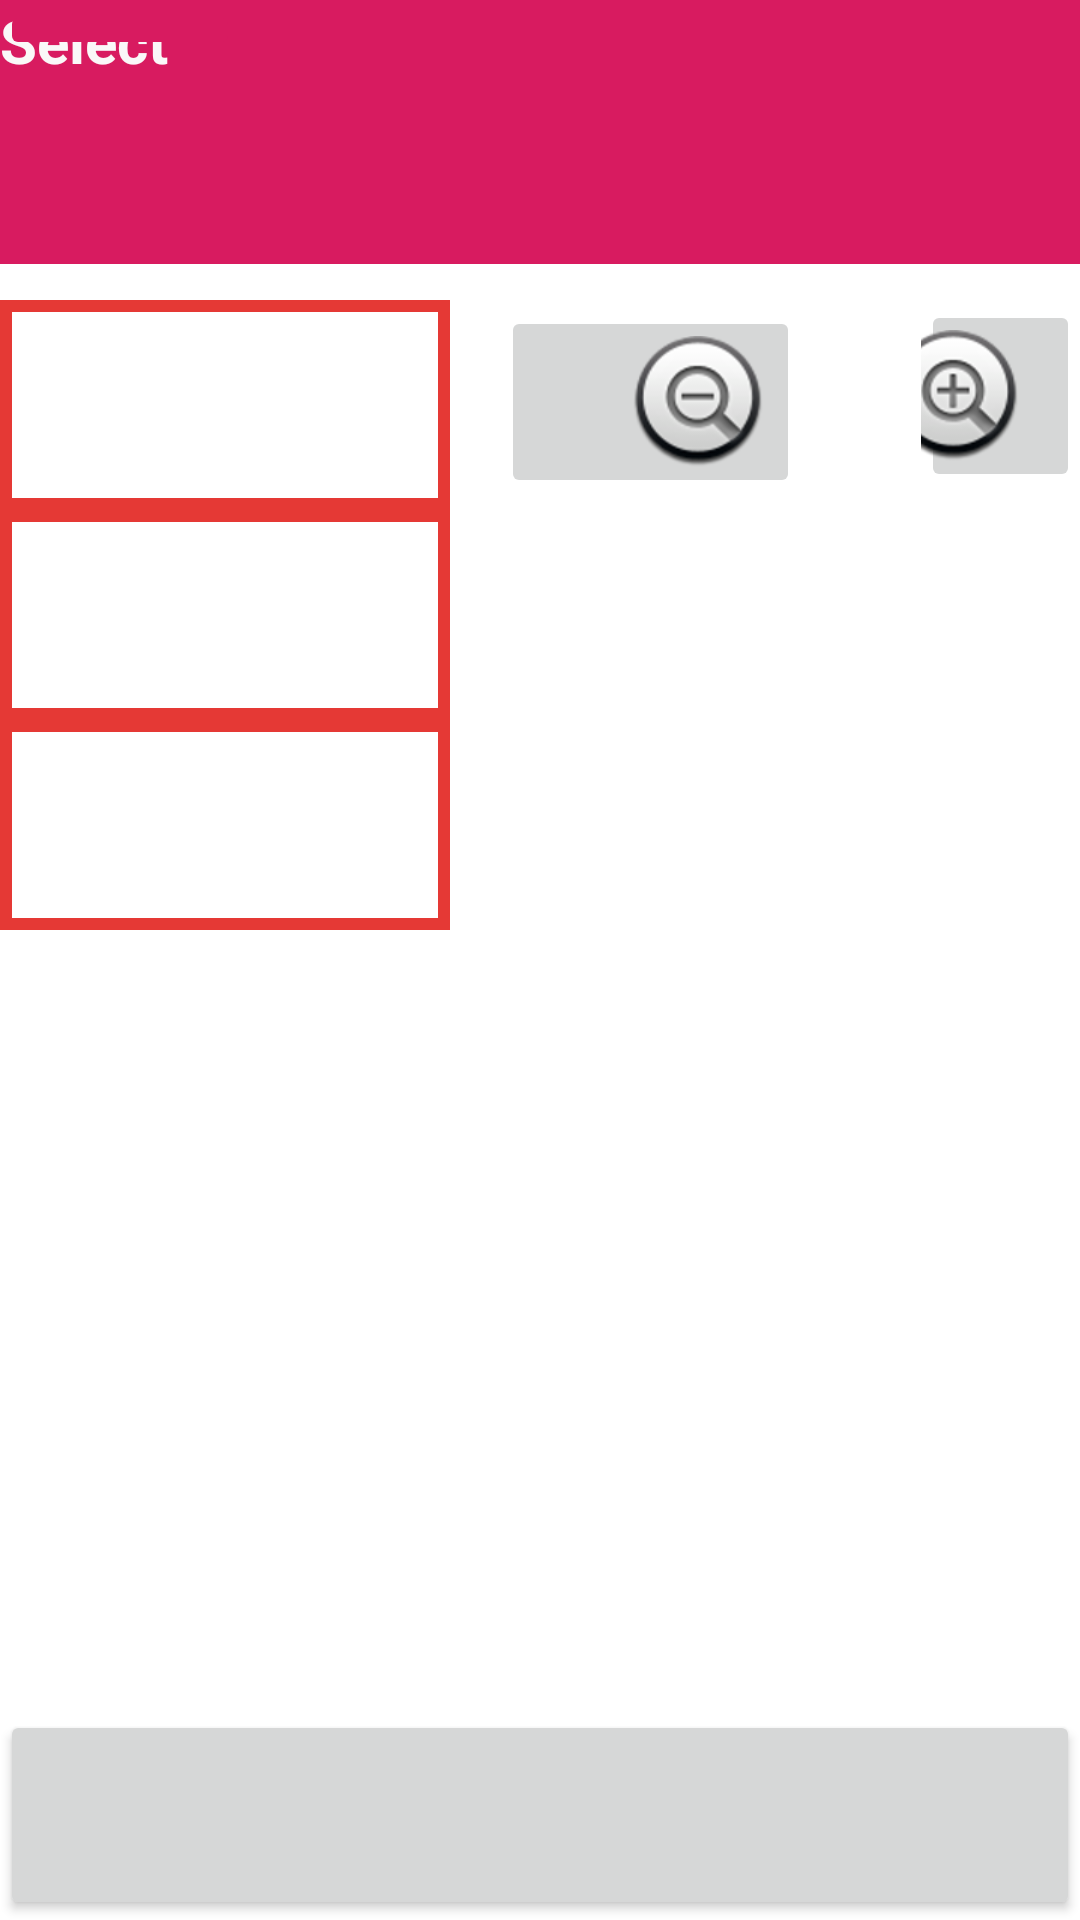

Screen size 1080x1920. Icon name, then its center in pixels as [x,y]:
minus: [650,402]
plus: [994,396]
